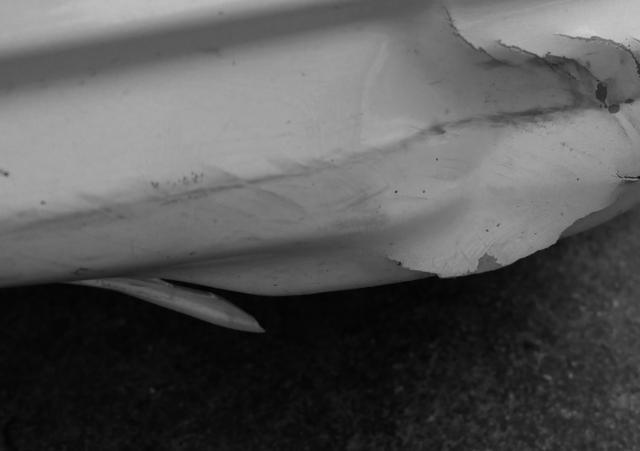Bumper: (213, 3, 640, 281)
